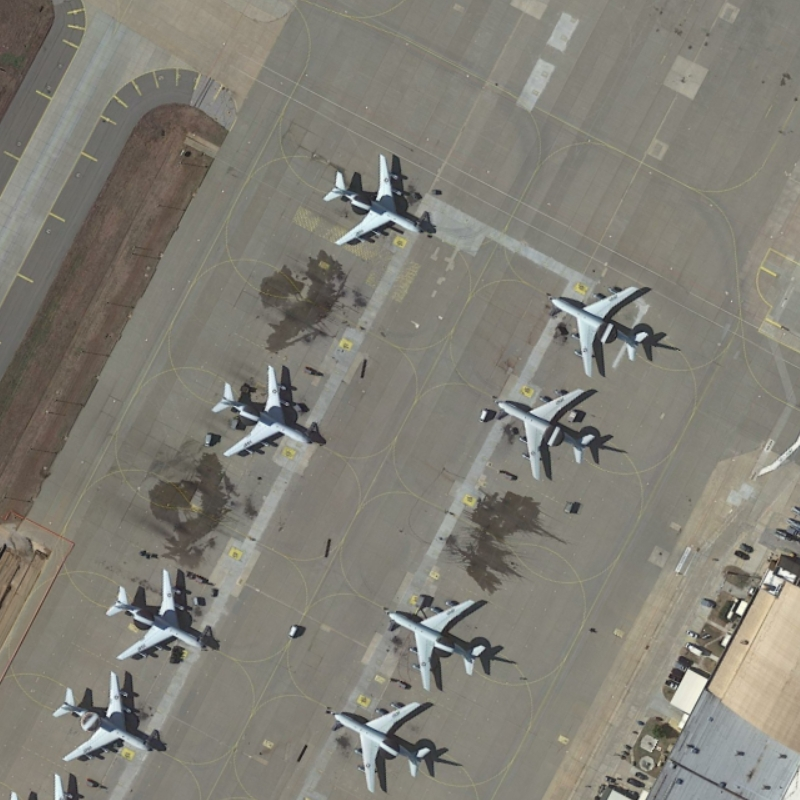A7: (543, 278, 671, 386), (377, 589, 499, 697), (318, 144, 431, 258), (325, 696, 445, 800), (489, 386, 620, 481), (101, 564, 220, 666), (49, 667, 167, 766), (206, 362, 323, 461)
